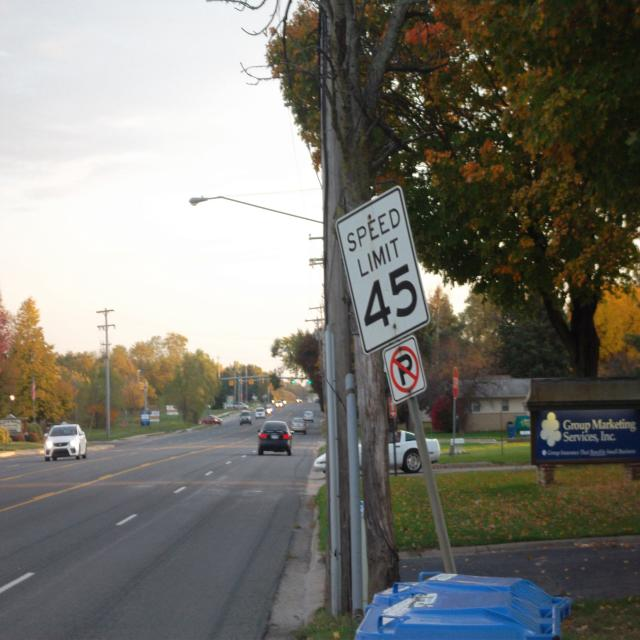regulatory: (336, 185, 430, 353)
stop: (447, 365, 464, 406)
